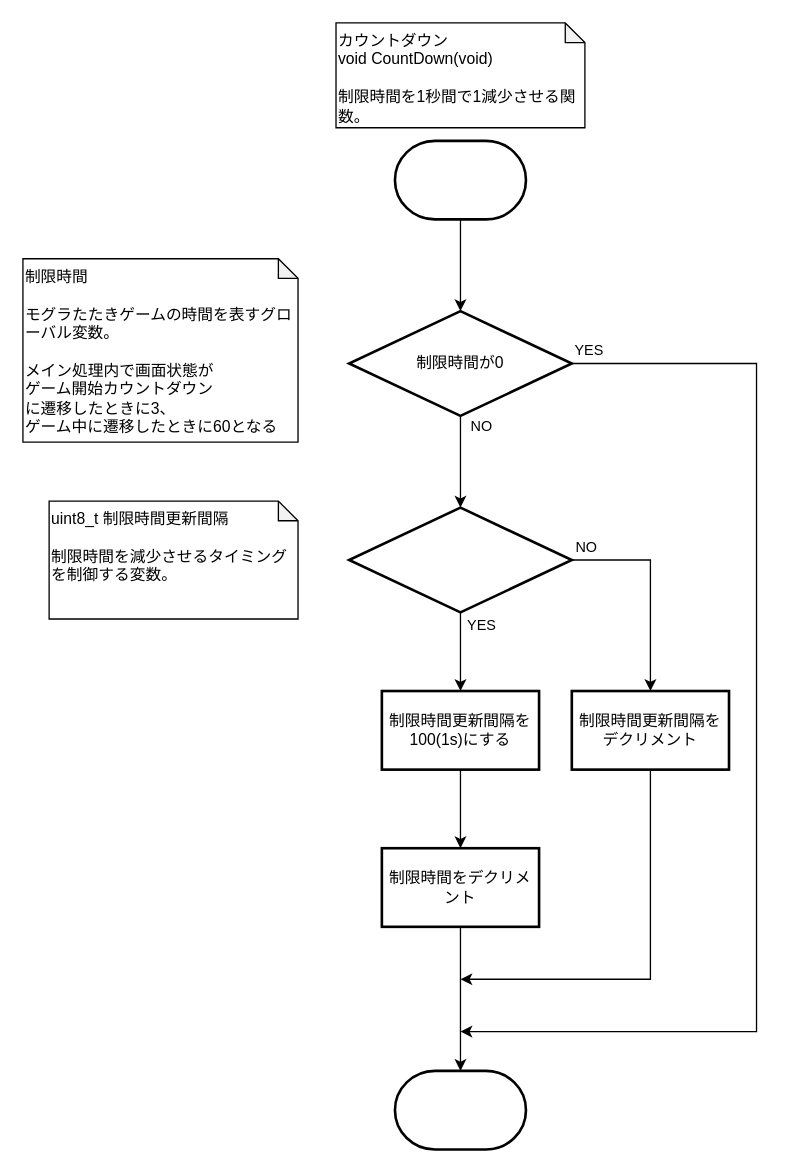
This 790x1174 diagram has some shape labels left out. Each missing label, with the box of its shape:
End: (393, 1069, 527, 1150)
Start: (393, 139, 527, 220)
制限時間更新間隔が0: (347, 506, 572, 613)
